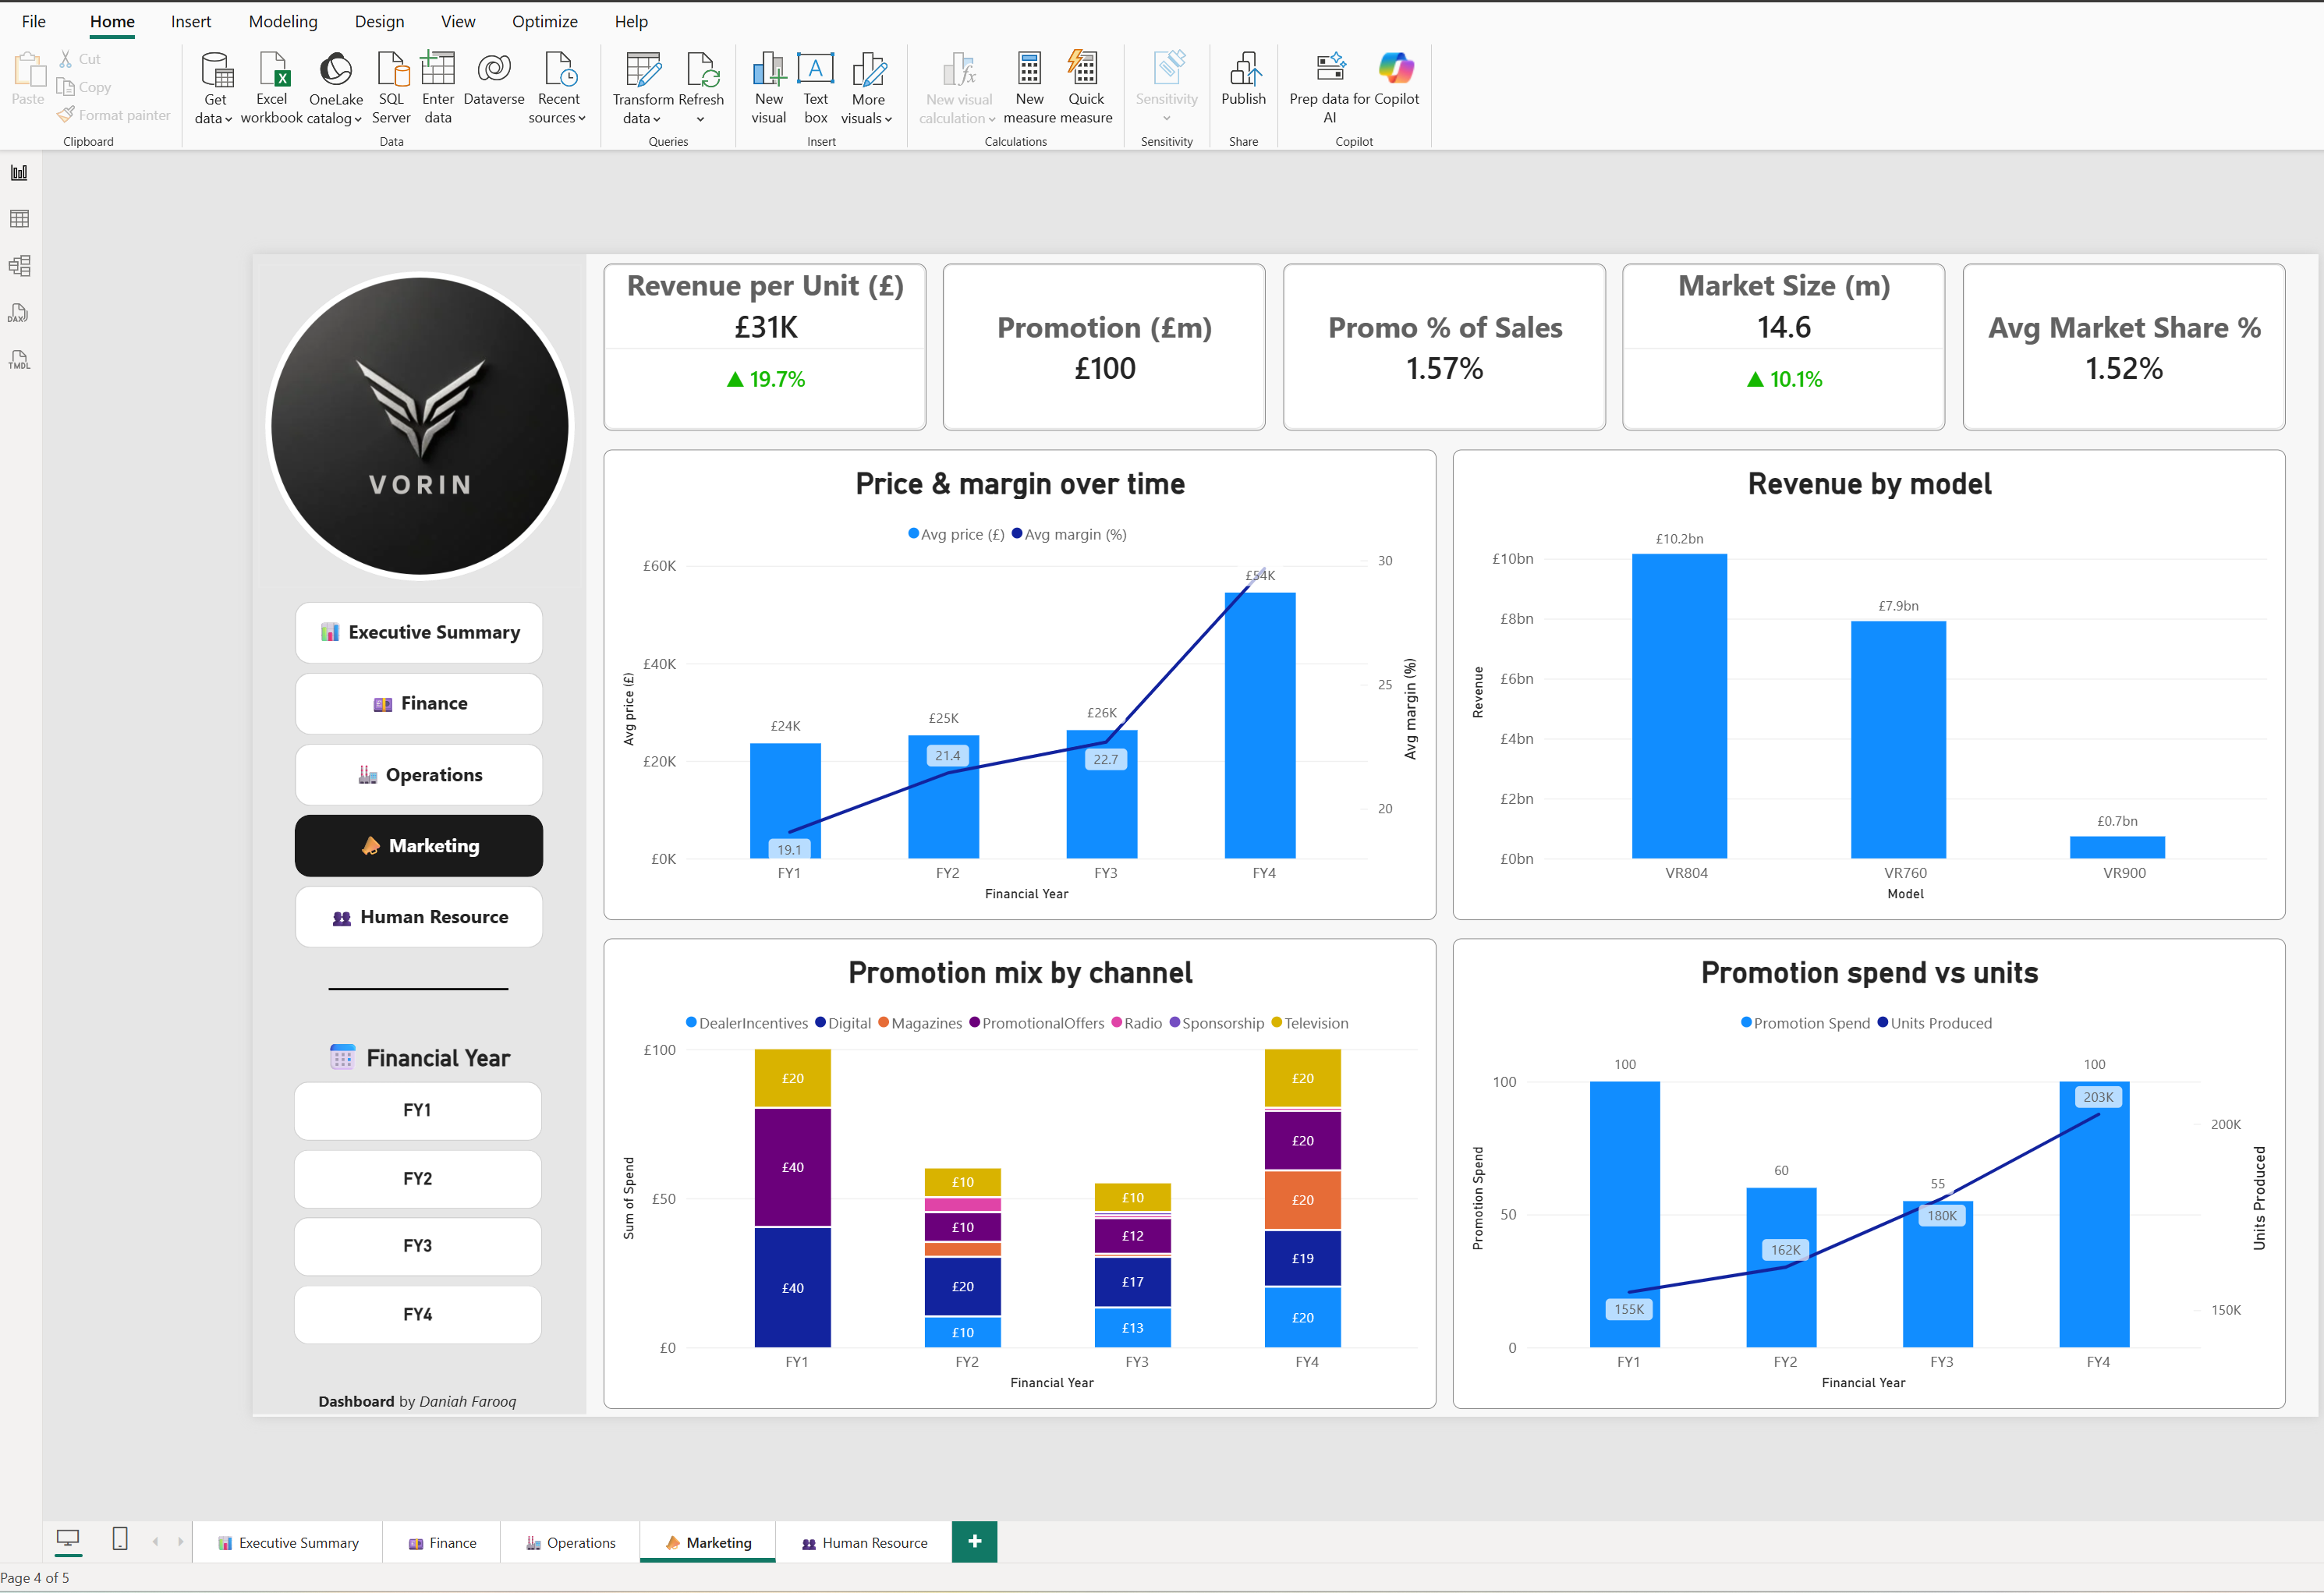

This screenshot's page, from the dashboard's own definition file:
{"tool":"powerbi","page":{"name":"📣 Marketing","canvas":[1920,1080],"ordinal":3},"visuals":[{"type":"cardVisual","fields":{"Data":["_Measures.Revenue Per Unit (Latest)"]},"box":[326,9.2,300,155],"z":0},{"type":"cardVisual","fields":{"Data":["_Measures.Promotion Spend (Latest)"]},"box":[641.8,9.2,300,155],"z":1000},{"type":"cardVisual","fields":{"Data":["_Measures.Market Share (Latest)"]},"box":[1589,9,300,155],"z":2000},{"type":"cardVisual","fields":{"Data":["_Measures.Market Size (Latest)"]},"box":[1273.3,8.9,300,155.6],"z":3000},{"type":"cardVisual","fields":{"Data":["_Measures.Promo Pct (Latest)"]},"box":[957.5,9.2,300,155],"z":4000},{"type":"lineClusteredColumnComboChart","title":"Price & margin over time","fields":{"Category":["Rounds.Financial Year"],"Y":["Avg(Models.Price_GBP)"],"Y2":["Avg(Models.GrossMarginPct)"]},"box":[326,181,774,437],"z":5000},{"type":"columnChart","title":"Promotion mix by channel","fields":{"Category":["Rounds.Financial Year"],"Series":["PromotionMix.Channel"],"Y":["Sum(PromotionMix.Spend_m)"]},"box":[326,636,774,437],"z":6000},{"type":"clusteredColumnChart","title":"Revenue by model","fields":{"Category":["Models.Model"],"Y":["Sum(Models.Revenue)"]},"box":[1115,182,774,437],"z":7000},{"type":"lineClusteredColumnComboChart","title":"Promotion spend vs units","fields":{"Category":["Rounds.Financial Year"],"Y":["_Measures.Promotion Spend"],"Y2":["_Measures.Units Produced"]},"box":[1115,636,774,437],"z":8000},{"type":"shape","box":[0,0,310.2,1077.9],"z":9000},{"type":"image","box":[5.4,9.5,300,300],"z":10000},{"type":"pageNavigator","box":[38.8,322.6,231.1,322.6],"z":11000},{"type":"textbox","box":[58,1055,191,25],"z":12000},{"type":"advancedSlicerVisual","title":"📅 Financial Year","fields":{"Values":["Rounds.RoundLabel"]},"box":[38,728,231.1,286.9],"z":13000},{"type":"shape","box":[71,581,167,203],"z":14000}]}

Visuals, with their boxes on the page's 1920x1080 design canvas (x1, y1, x2, y2). These are canvas units, not pixel positions in the 2324x1593 screenshot, which may show the page scaled, cropped or inside an application window:
cardVisual - _Measures.Revenue Per Unit (Latest): Rect(326, 9, 626, 164)
cardVisual - _Measures.Promotion Spend (Latest): Rect(642, 9, 942, 164)
cardVisual - _Measures.Market Share (Latest): Rect(1589, 9, 1889, 164)
cardVisual - _Measures.Market Size (Latest): Rect(1273, 9, 1573, 164)
cardVisual - _Measures.Promo Pct (Latest): Rect(958, 9, 1258, 164)
"Price & margin over time" lineClusteredColumnComboChart: Rect(326, 181, 1100, 618)
"Promotion mix by channel" columnChart: Rect(326, 636, 1100, 1073)
"Revenue by model" clusteredColumnChart: Rect(1115, 182, 1889, 619)
"Promotion spend vs units" lineClusteredColumnComboChart: Rect(1115, 636, 1889, 1073)
shape: Rect(0, 0, 310, 1078)
image: Rect(5, 10, 305, 310)
pageNavigator: Rect(39, 323, 270, 645)
textbox: Rect(58, 1055, 249, 1080)
"📅 Financial Year" advancedSlicerVisual: Rect(38, 728, 269, 1015)
shape: Rect(71, 581, 238, 784)
